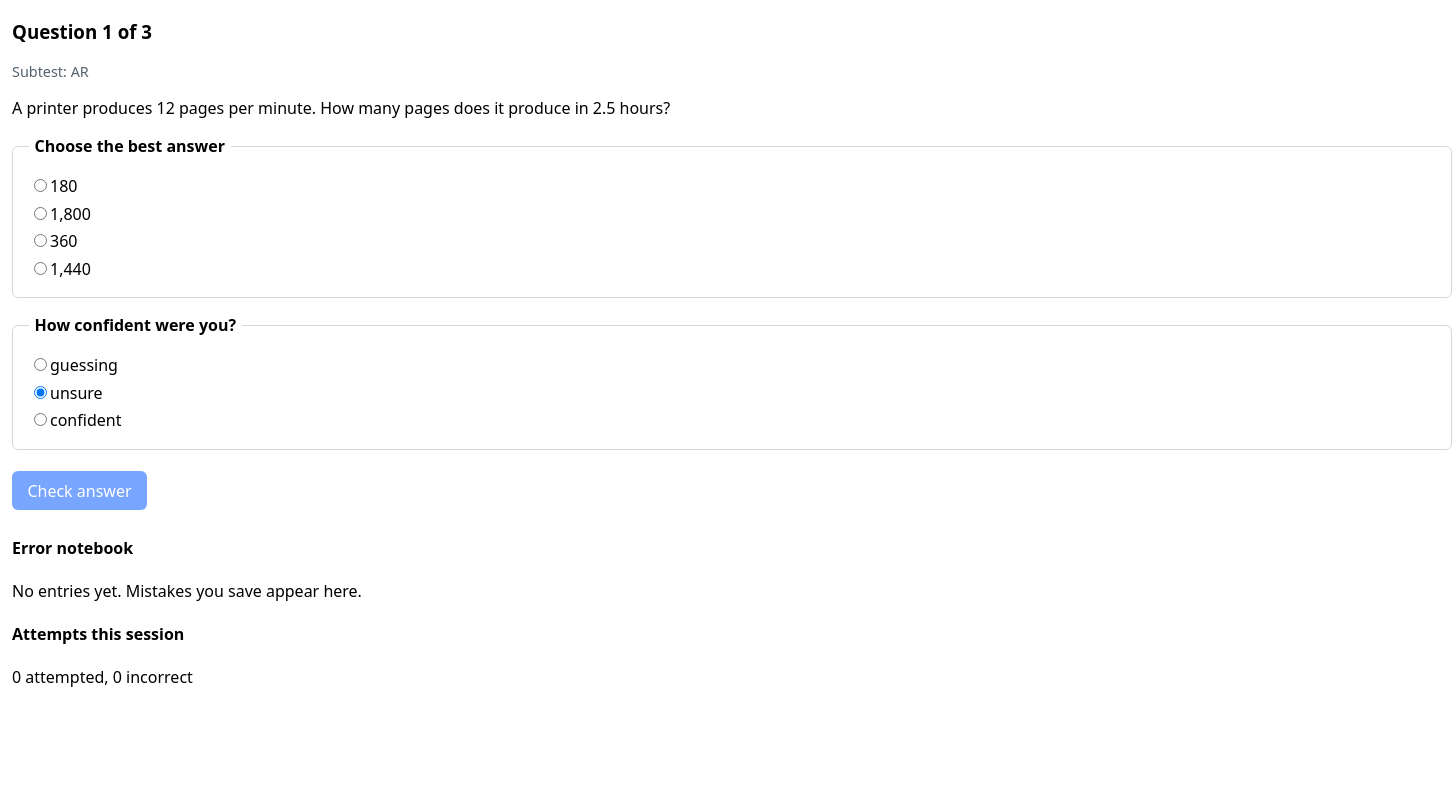
practice view › reveals the worked solution after answering
The image size is (1452, 810).
Click the radio button labelled "1,800" at (40, 213), box [34,207,47,220]
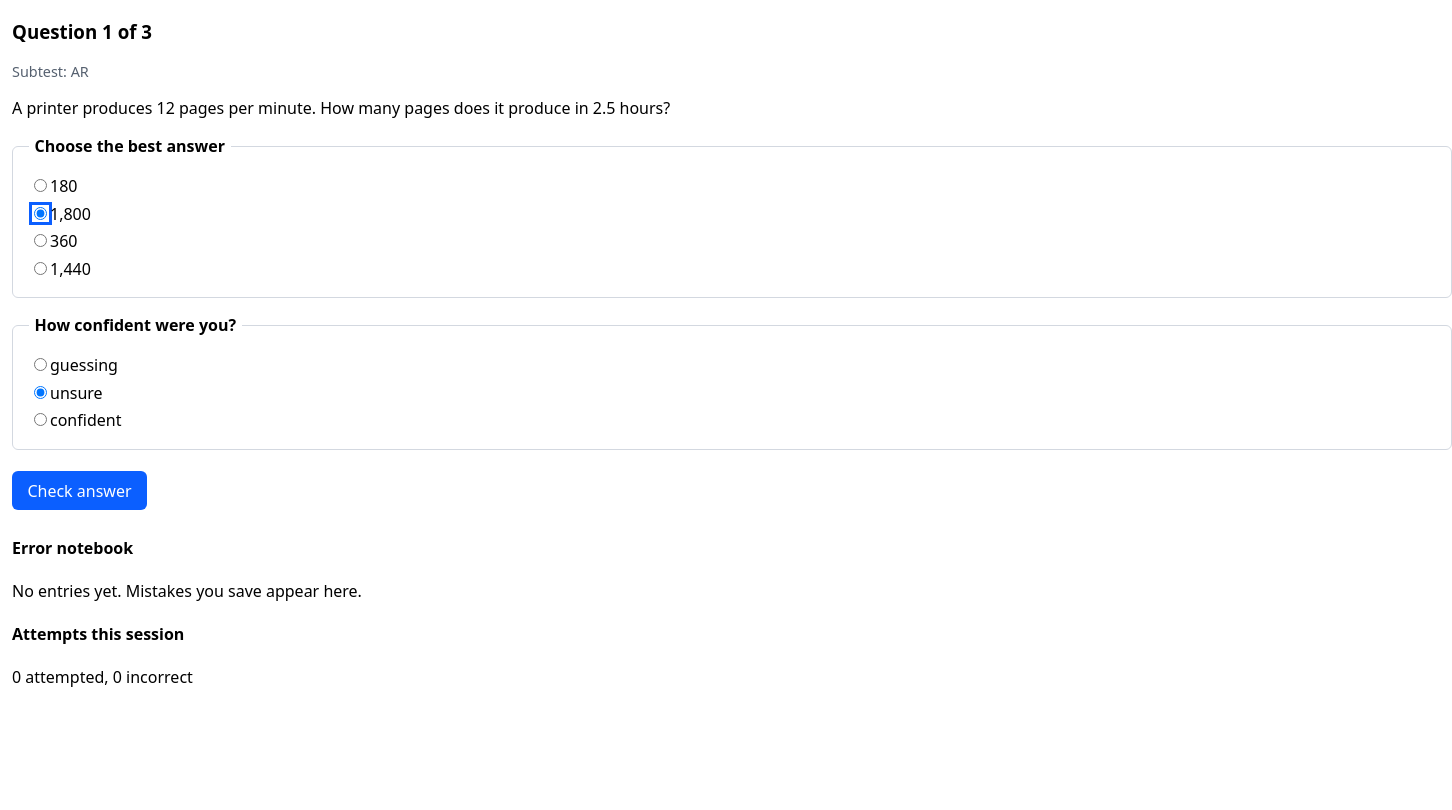
Click the button "Check answer" at (79, 491), box [12,471,147,510]
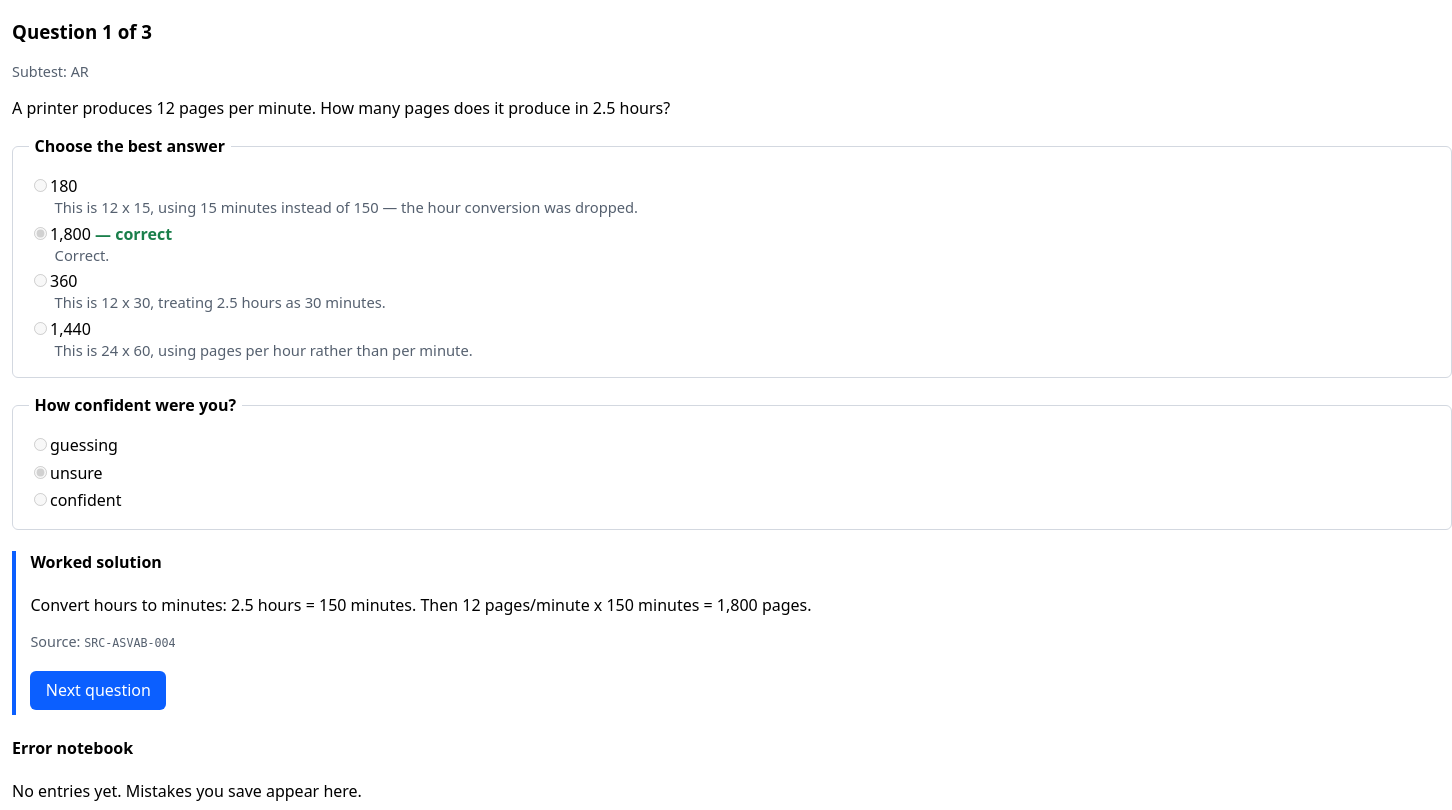
Expected: the element with test id "worked-solution" is shown, [12,551,1451,715]
Expected: the text "Source: SRC-ASVAB-004" is shown, [30,632,176,651]
